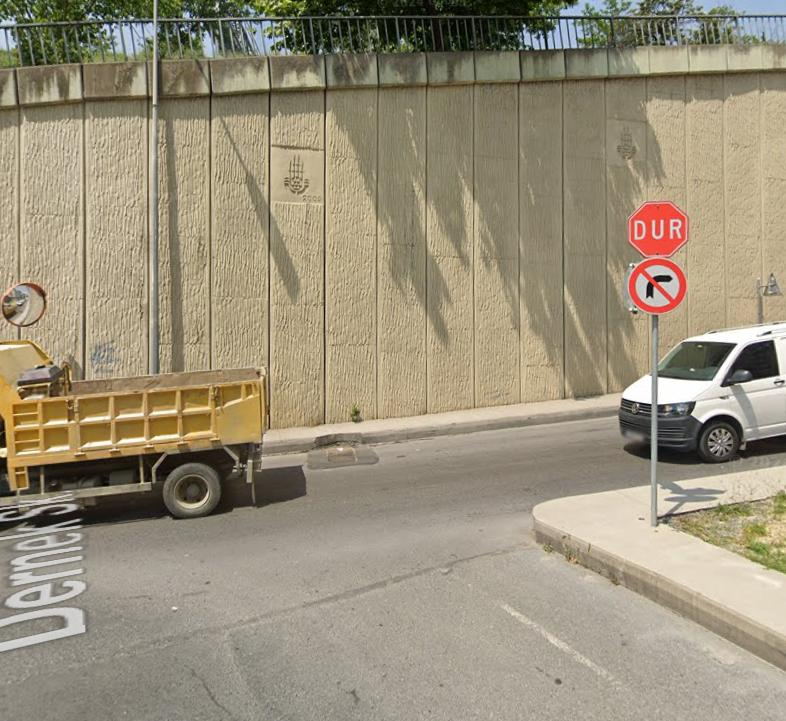rightturnsareforbidden: (629, 258, 686, 308)
stop: (627, 204, 689, 253)
